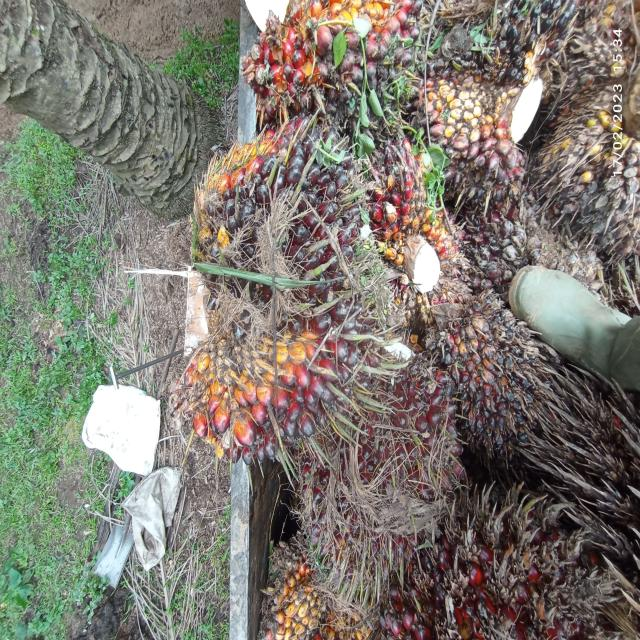fraksi 00: (164, 93, 404, 498), (422, 187, 620, 482), (408, 0, 577, 229), (535, 2, 640, 266)
